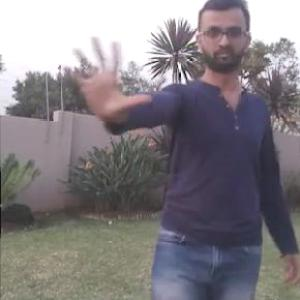follow_hand: (63, 31, 152, 119)
